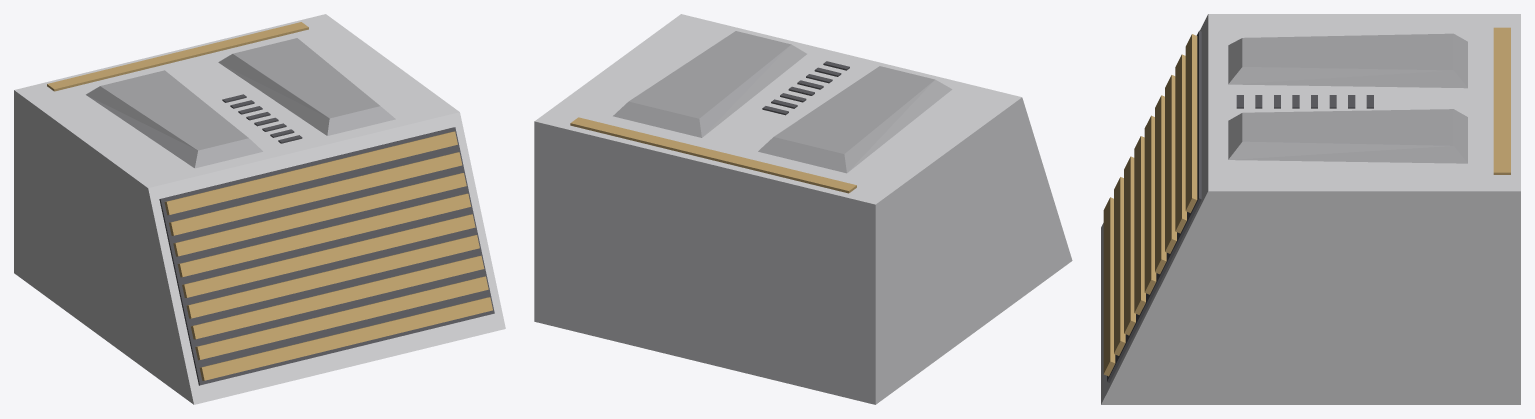
Rendered from vge_giant_astrofuel_thruster.obj.
The picture shows the model from 3 angles, left to right: view 1: azimuth 30°, elevation 25°; view 2: azimuth 150°, elevation 25°; view 3: azimuth 270°, elevation 25°; orthographic projection. The views are drawn at different scales.
Parts seen in each view (by area): view 1: vge_giant_astrofuel_thruster_0, vge_giant_astrofuel_thruster_1, vge_giant_astrofuel_thruster_11, vge_giant_astrofuel_thruster_12, vge_giant_astrofuel_thruster_4, vge_giant_astrofuel_thruster_10, vge_giant_astrofuel_thruster_5, vge_giant_astrofuel_thruster_7, vge_giant_astrofuel_thruster_8, vge_giant_astrofuel_thruster_3, vge_giant_astrofuel_thruster_2, vge_giant_astrofuel_thruster_6 (+2 smaller); view 2: vge_giant_astrofuel_thruster_0, vge_giant_astrofuel_thruster_11, vge_giant_astrofuel_thruster_12, vge_giant_astrofuel_thruster_21; view 3: vge_giant_astrofuel_thruster_0, vge_giant_astrofuel_thruster_12, vge_giant_astrofuel_thruster_11, vge_giant_astrofuel_thruster_21, vge_giant_astrofuel_thruster_10, vge_giant_astrofuel_thruster_2, vge_giant_astrofuel_thruster_6, vge_giant_astrofuel_thruster_9, vge_giant_astrofuel_thruster_4, vge_giant_astrofuel_thruster_5, vge_giant_astrofuel_thruster_8, vge_giant_astrofuel_thruster_1 (+2 smaller).
Boxes of the visible parts, box(x1,y1,x2,y2) form: vge_giant_astrofuel_thruster_0: box(14, 14, 505, 404); vge_giant_astrofuel_thruster_1: box(159, 127, 494, 385); vge_giant_astrofuel_thruster_11: box(86, 70, 262, 168); vge_giant_astrofuel_thruster_12: box(218, 38, 395, 135); vge_giant_astrofuel_thruster_4: box(191, 255, 484, 339); vge_giant_astrofuel_thruster_10: box(164, 131, 457, 215); vge_giant_astrofuel_thruster_5: box(186, 235, 479, 318); vge_giant_astrofuel_thruster_7: box(177, 193, 470, 277); vge_giant_astrofuel_thruster_8: box(173, 173, 466, 256); vge_giant_astrofuel_thruster_3: box(195, 276, 488, 360); vge_giant_astrofuel_thruster_2: box(199, 297, 492, 380); vge_giant_astrofuel_thruster_6: box(182, 214, 475, 297); vge_giant_astrofuel_thruster_0: box(534, 14, 1072, 404); vge_giant_astrofuel_thruster_11: box(758, 66, 952, 173); vge_giant_astrofuel_thruster_12: box(613, 31, 806, 137); vge_giant_astrofuel_thruster_21: box(570, 117, 856, 193); vge_giant_astrofuel_thruster_0: box(1101, 14, 1520, 404); vge_giant_astrofuel_thruster_12: box(1228, 109, 1467, 163); vge_giant_astrofuel_thruster_11: box(1228, 33, 1467, 88); vge_giant_astrofuel_thruster_21: box(1493, 27, 1510, 174); vge_giant_astrofuel_thruster_10: box(1185, 34, 1197, 212); vge_giant_astrofuel_thruster_2: box(1103, 197, 1115, 376); vge_giant_astrofuel_thruster_6: box(1144, 115, 1156, 294); vge_giant_astrofuel_thruster_9: box(1175, 54, 1186, 233); vge_giant_astrofuel_thruster_4: box(1124, 156, 1135, 335); vge_giant_astrofuel_thruster_5: box(1134, 136, 1145, 314); vge_giant_astrofuel_thruster_8: box(1165, 75, 1176, 253); vge_giant_astrofuel_thruster_1: box(1107, 30, 1201, 382).
Bounding box in the file's own units: 2.94 × 1.75 × 2.94.
